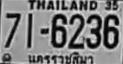1: (26, 13, 32, 47)
2: (68, 13, 84, 48)
3: (85, 13, 101, 48)
6: (50, 13, 66, 47), (103, 13, 118, 48)
7: (4, 12, 20, 47)
NMA: (26, 51, 95, 64)
